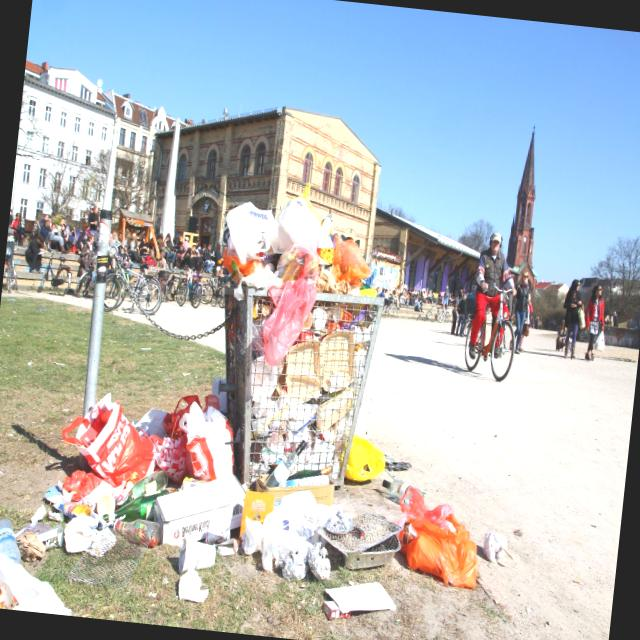garbage: (0, 138, 536, 640)
